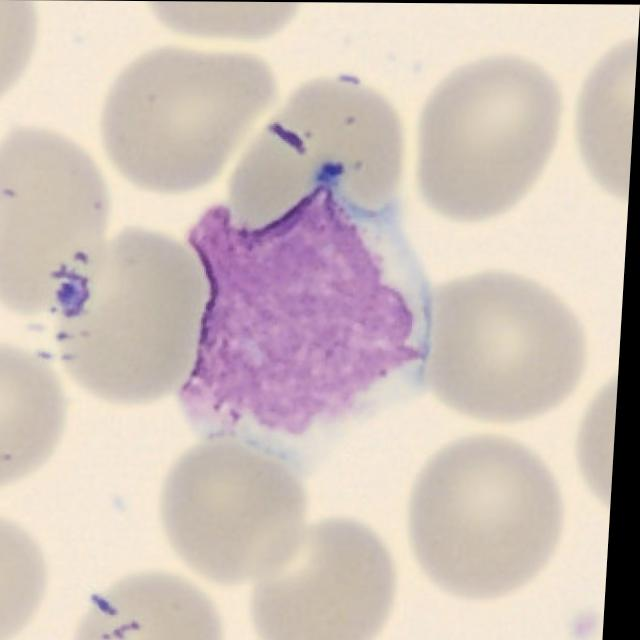Linfocito atipico: (183, 159, 436, 464)
